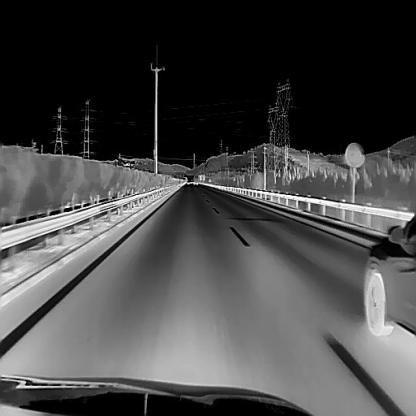car: (364, 214, 416, 336)
truck: (192, 174, 198, 184)
